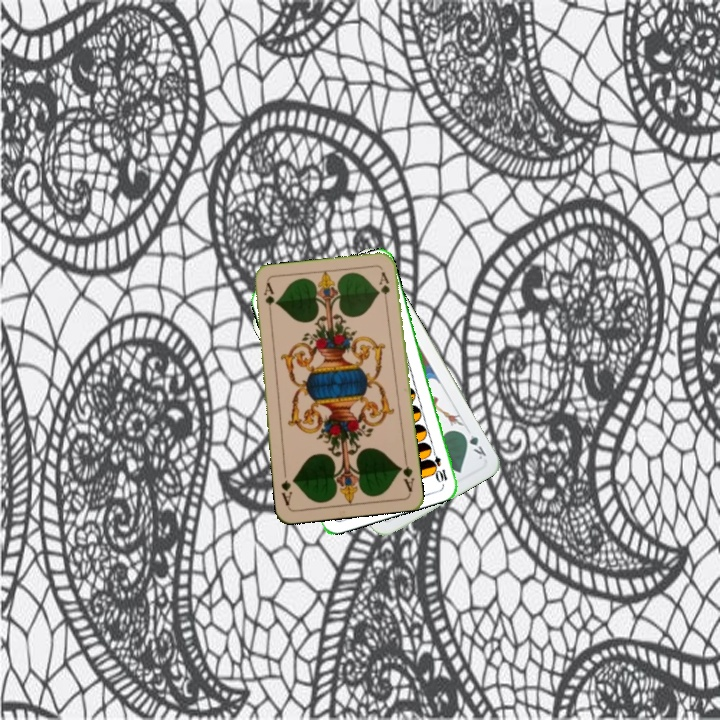E10: (427, 445, 450, 485)
GA: (395, 454, 417, 494), (259, 279, 275, 320)
GK: (458, 424, 489, 462)
